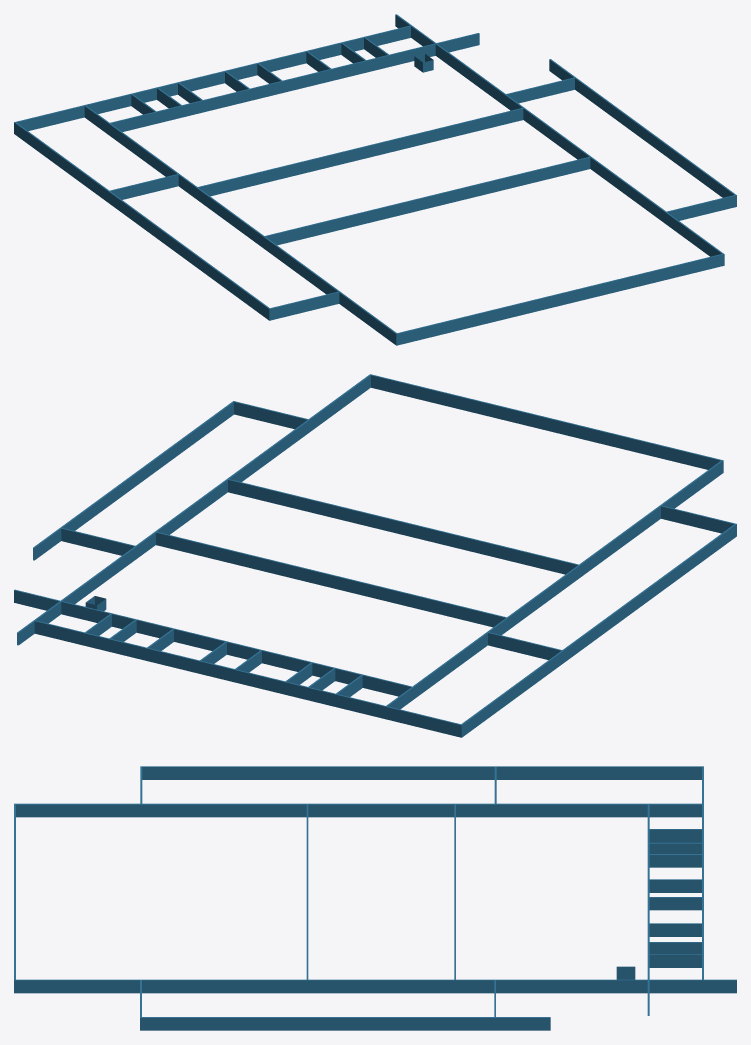
Rendered from meidiDemo.fbx.
The picture shows the model from 3 angles, top to bottom: view 1: azimuth 30°, elevation 25°; view 2: azimuth 150°, elevation 25°; view 3: azimuth 270°, elevation 25°; orthographic projection. The views are drawn at different scales.
Visible parts, largest first — view 1: qiang_ti; view 2: qiang_ti; view 3: qiang_ti, shu_ju_po_sui_1, shu_ju_po_sui_3.
Boxes of the visible parts, x1,y1,x2,y2 form: qiang_ti: (14,25,736,345); qiang_ti: (33,374,736,737); qiang_ti: (14,766,703,1030); shu_ju_po_sui_1: (496,1017,550,1030); shu_ju_po_sui_3: (704,979,736,993).
Bounding box in the file's own units: 12617 × 301 × 15324.
